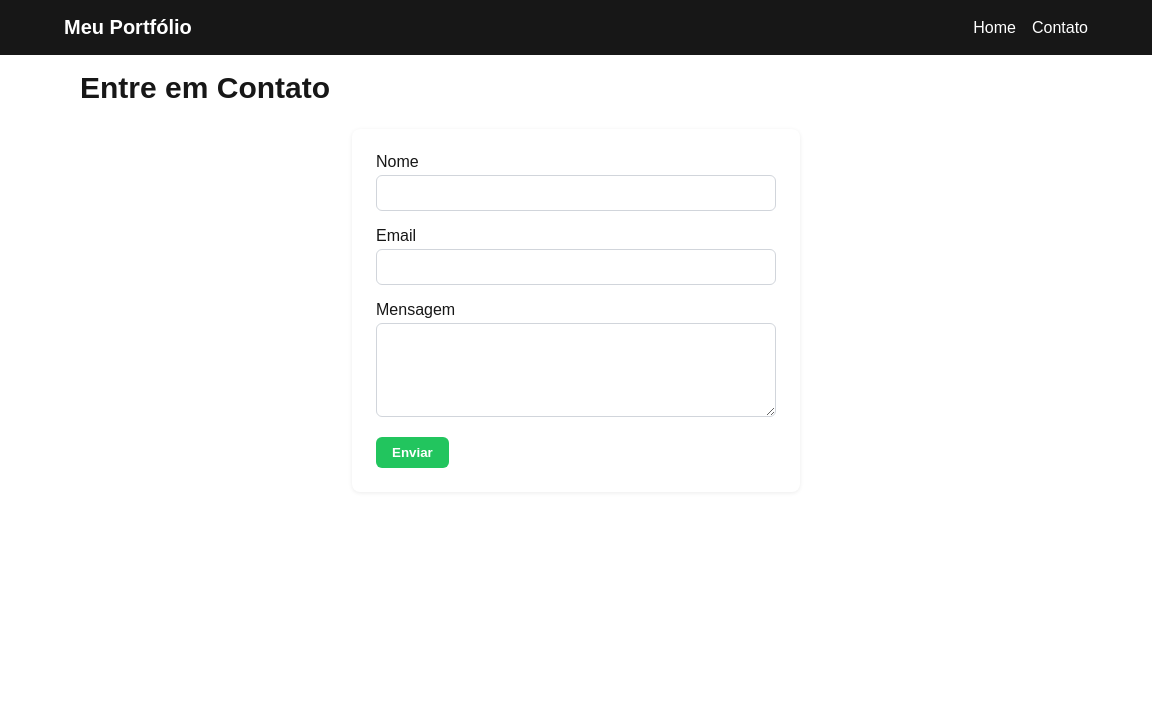
Navegação › navega para a página inicial a partir de contato
Volta para a página inicial
Click the link with test id "nav-home".
click(995, 28)  # box [973,19,1016,36]
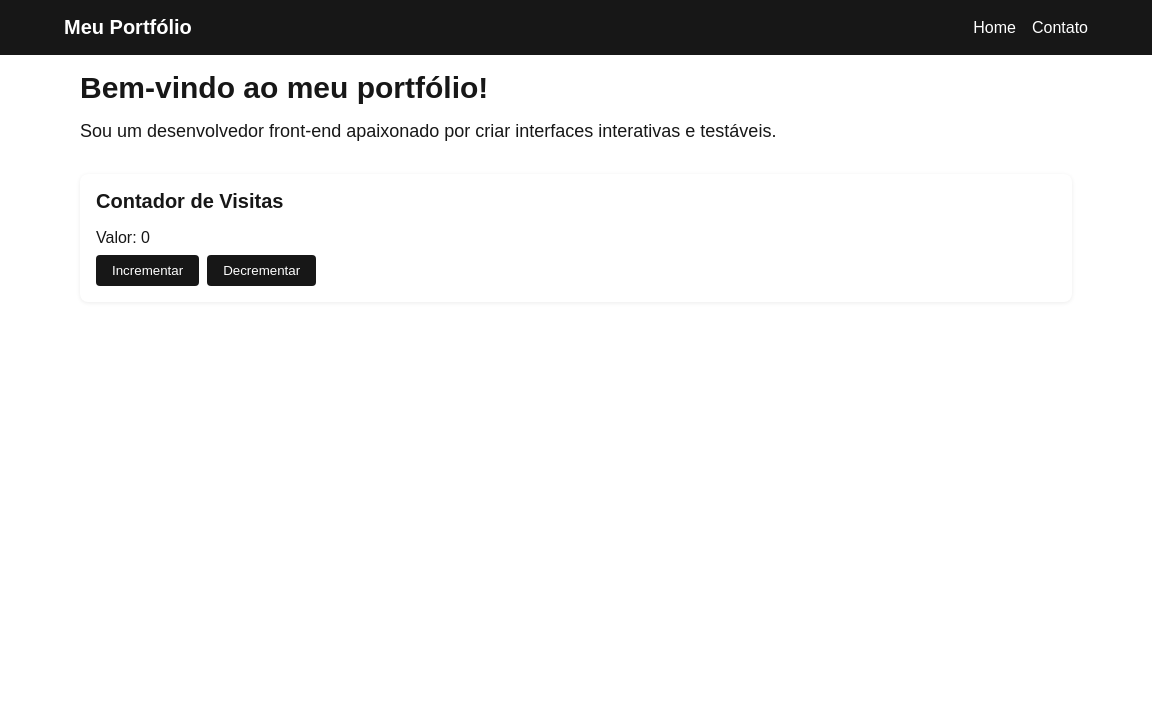
Expected: the heading "Bem-vindo ao meu portfólio!" is shown, [80,71,488,104]
